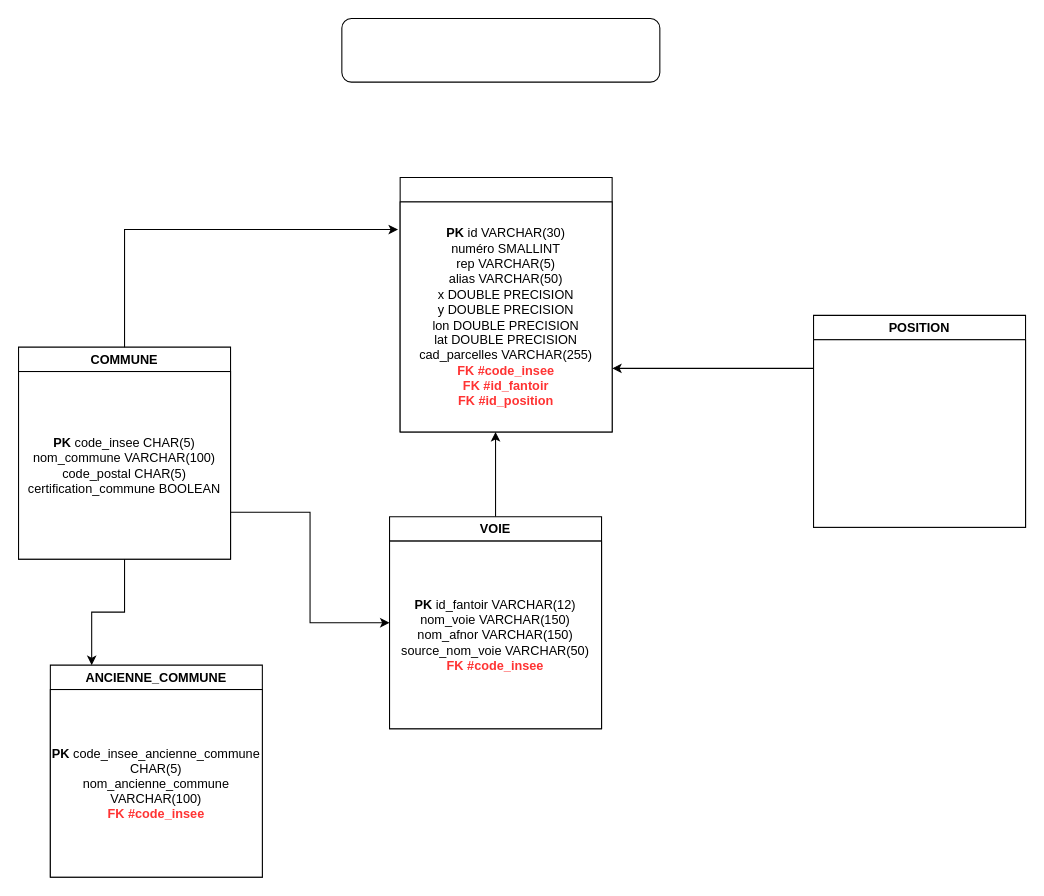
Some shapes in this 1044 by 896 pixel diagram are drawn without their labels. The box of each missing label's shape, as (x1, y1, x2, y2) in pixels:
ADRESSE: (399, 176, 612, 432)
MPD : le Modèle Physique de Données: (341, 17, 660, 82)
PK id_position BIGSERIAL type_position VARCHAR(50) source_position VARCHAR(50): (812, 339, 1026, 527)
